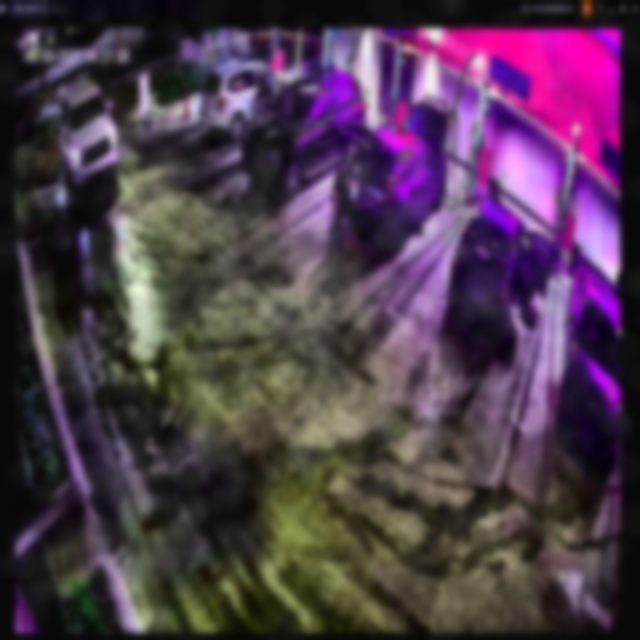Car: (451, 195, 551, 346), (347, 102, 446, 253), (244, 72, 366, 193)
